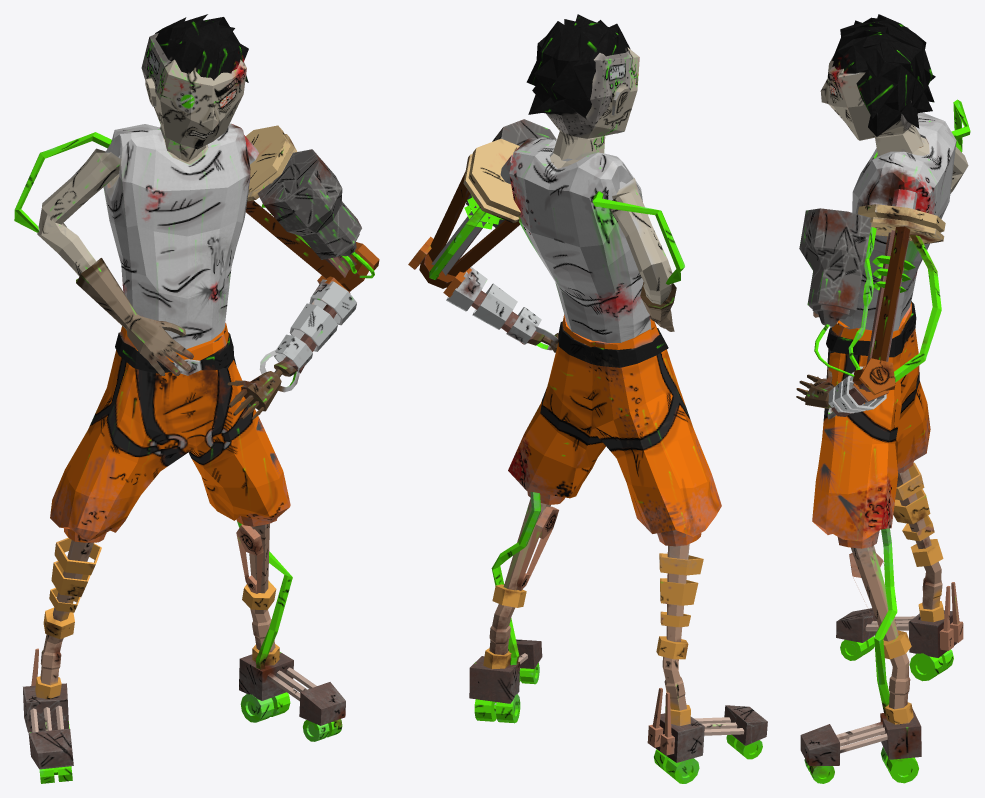
File: CyborgFINALAnimation_000034.obj
3 views of the same model, side by side, from view 1: azimuth 30°, elevation 25°; view 2: azimuth 150°, elevation 25°; view 3: azimuth 270°, elevation 25° (orthographic). The views are drawn at different scales.
Parts seen in each view (by area): view 1: CyborgMesh_Cube.002; view 2: CyborgMesh_Cube.002; view 3: CyborgMesh_Cube.002.
Boxes of the visible parts, box(x1,y1,x2,y2) form: CyborgMesh_Cube.002: box(14, 14, 379, 783); CyborgMesh_Cube.002: box(408, 14, 767, 783); CyborgMesh_Cube.002: box(796, 14, 970, 783).
Bounding box in the file's own units: 4.87 × 9.61 × 2.12.
